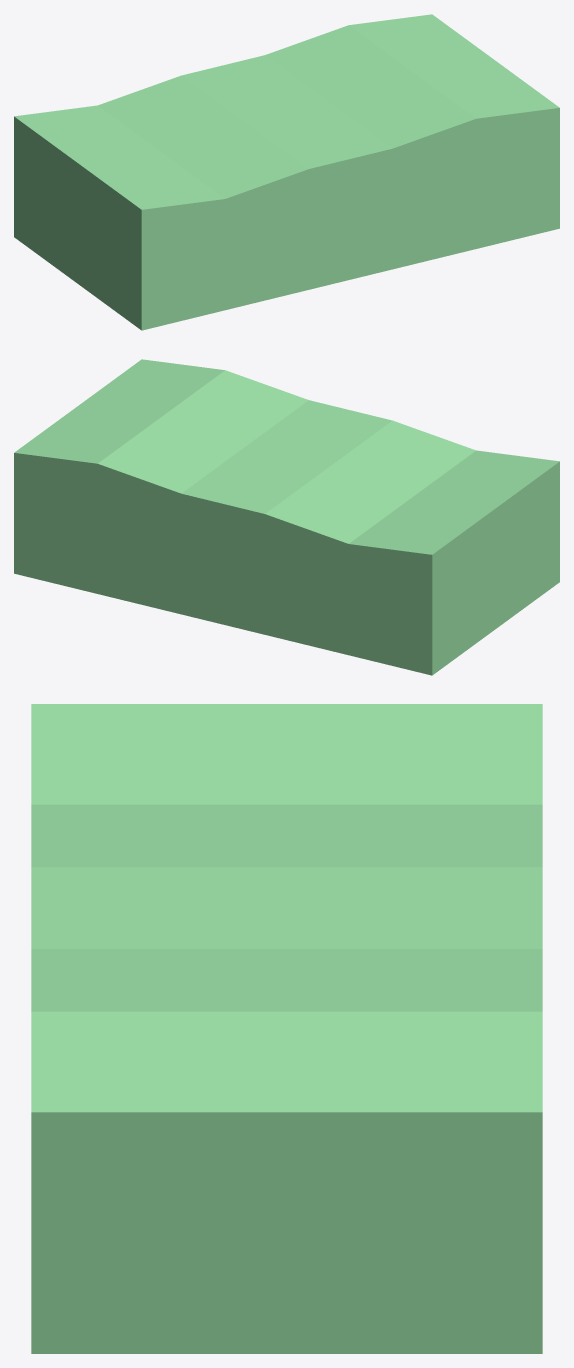
Rendered from dollar.fbx.
The picture shows the model from 3 angles, top to bottom: view 1: azimuth 30°, elevation 25°; view 2: azimuth 150°, elevation 25°; view 3: azimuth 270°, elevation 25°; orthographic projection. The views are drawn at different scales.
Parts seen in each view (by area): view 1: Cube; view 2: Cube; view 3: Cube.
Part boxes in pixels (x1=…): Cube: x1=14, y1=14, x2=559, y2=330; Cube: x1=14, y1=359, x2=559, y2=675; Cube: x1=31, y1=704, x2=542, y2=1353.
Bounding box in the file's own units: 202 × 60.1 × 107.
